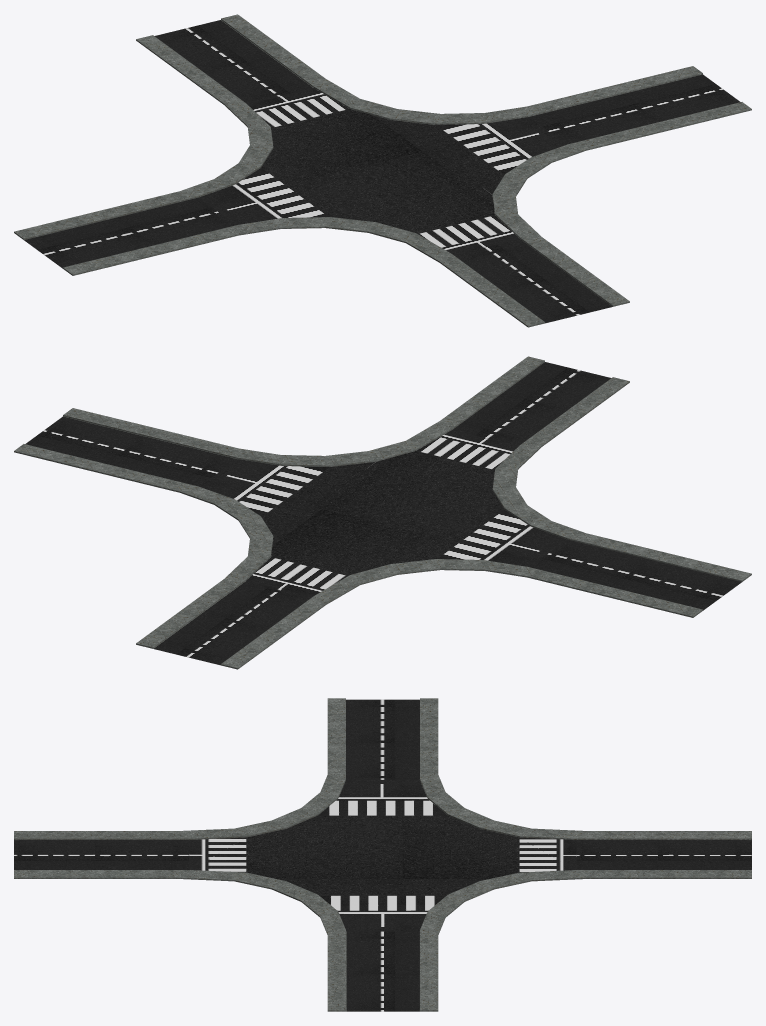
3 views of the same model, one above another, from view 1: azimuth 30°, elevation 25°; view 2: azimuth 150°, elevation 25°; view 3: azimuth 270°, elevation 25° (orthographic). The views are drawn at different scales.
Visible parts, largest first — view 1: Plane; view 2: Plane; view 3: Plane.
Part boxes in pixels (x1,y1,x2,y2): Plane: (14, 14, 751, 327); Plane: (14, 356, 751, 669); Plane: (14, 698, 751, 1011).
Bounding box in the file's own units: 8000 × 15 × 8000.
1 material, 1 textured.
